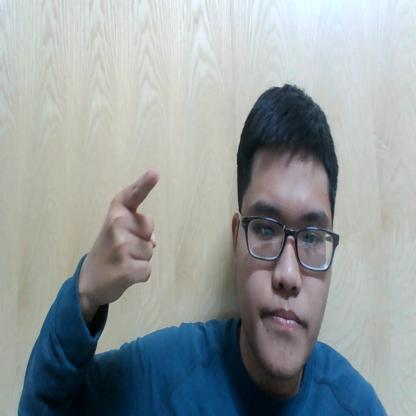left: (90, 157, 170, 298)
